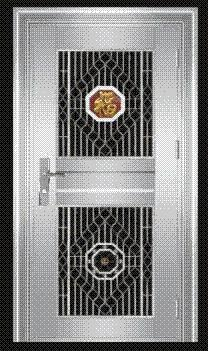door: (19, 14, 184, 342)
